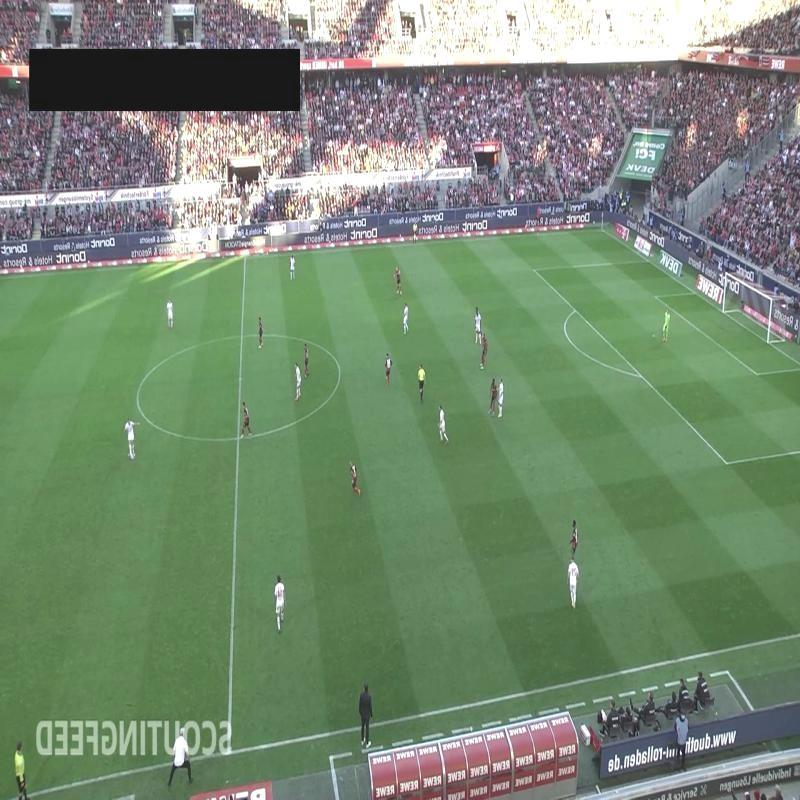1: (595, 223, 609, 237)
10: (569, 304, 583, 318)
11: (633, 368, 647, 382)
12: (718, 454, 736, 472)
13: (238, 251, 251, 265)
14: (234, 328, 250, 344)
15: (231, 430, 245, 447)
16: (215, 740, 245, 768)
2: (641, 255, 655, 269)
3: (688, 286, 702, 299)
7: (648, 289, 662, 303)
8: (750, 367, 764, 381)
9: (526, 263, 540, 277)
c: (128, 388, 148, 408), (333, 364, 347, 378)
